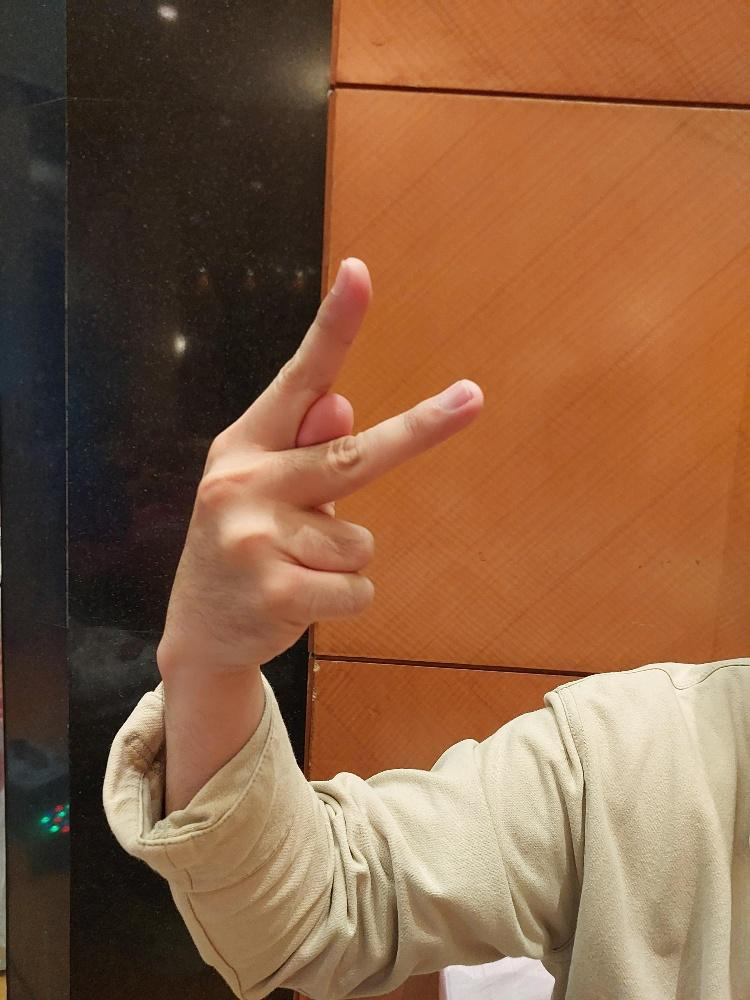k: (153, 252, 486, 666)
